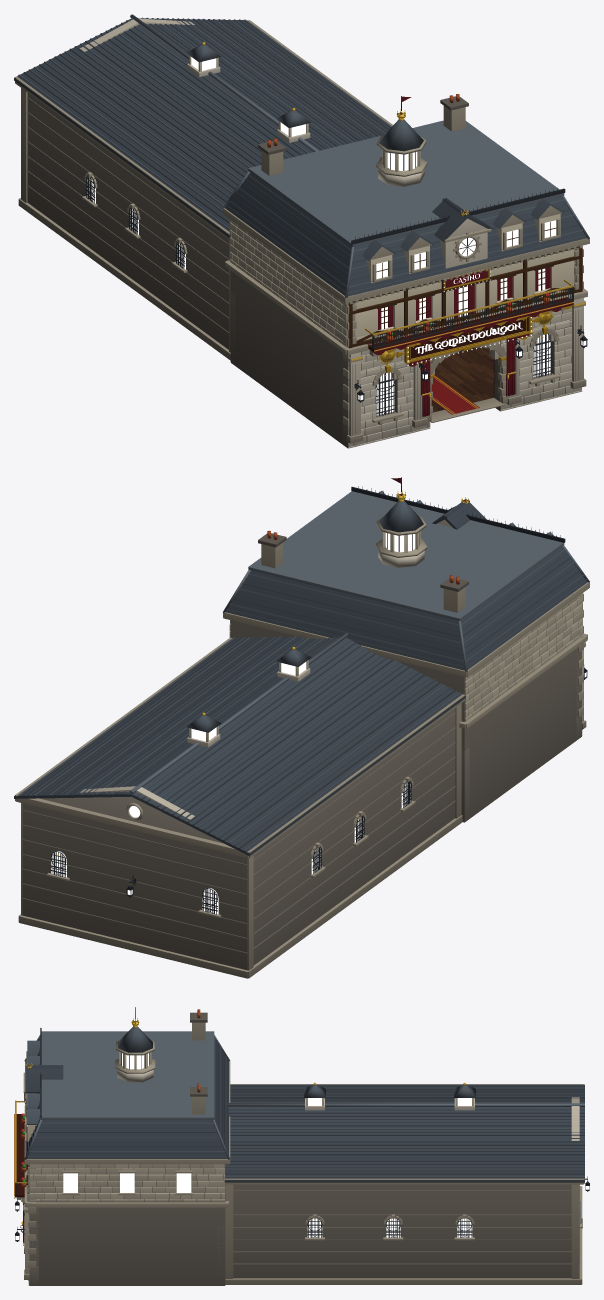
File: casino_hall.glb
3 renders of one model, top to bottom at view 1: azimuth 30°, elevation 25°; view 2: azimuth 150°, elevation 25°; view 3: azimuth 270°, elevation 25°, orthographic. The views are drawn at different scales.
Visible parts, largest first — view 1: casino_hall_LOD0; view 2: casino_hall_LOD0; view 3: casino_hall_LOD0.
Boxes of the visible parts, x1,y1,x2,y2 form: casino_hall_LOD0: (14, 14, 589, 448); casino_hall_LOD0: (14, 477, 589, 978); casino_hall_LOD0: (14, 1007, 589, 1285).
Size of what is drawn, in the model's own units: 17.46 by 18.88 by 42.66.
